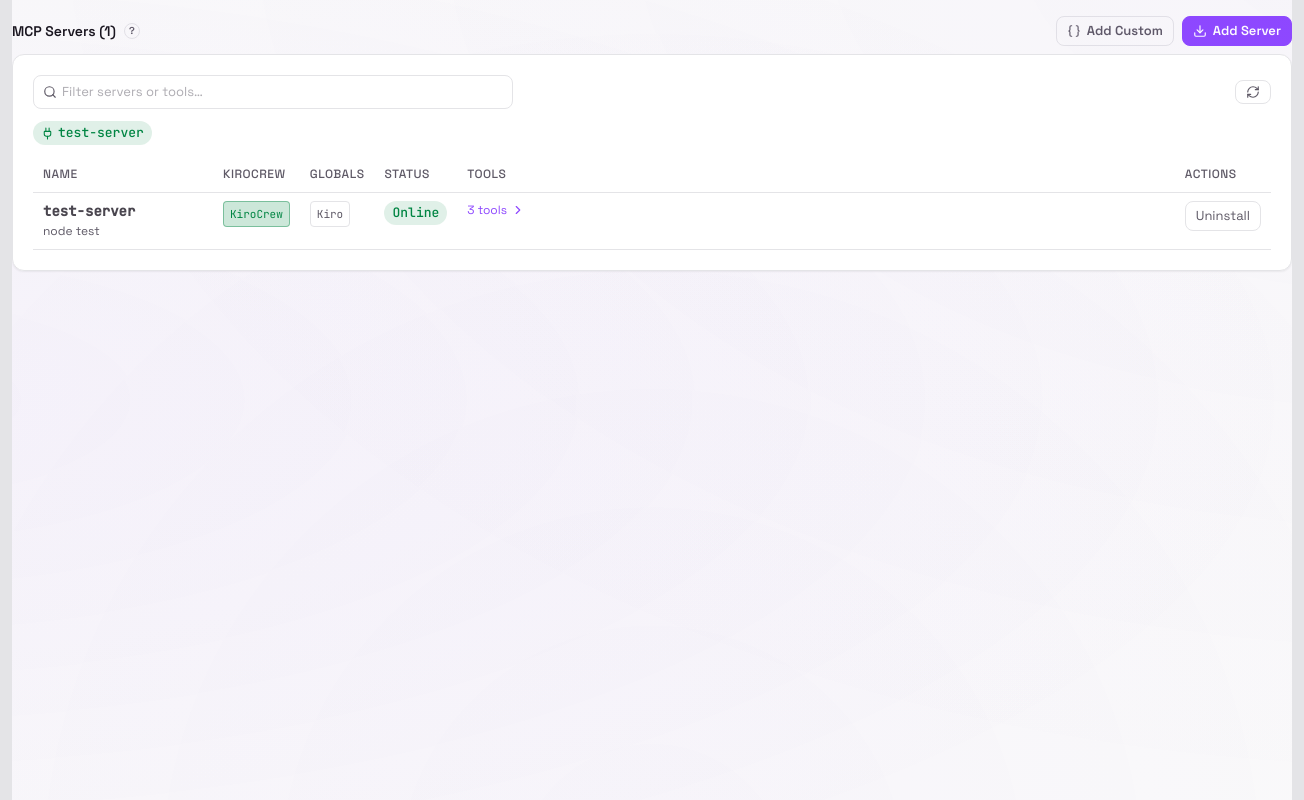
Test: McpTab Integration Tests › displays tools for each server
The image size is (1304, 800).
Click the button "3 tools".
click(496, 210)  # box [467,201,525,220]
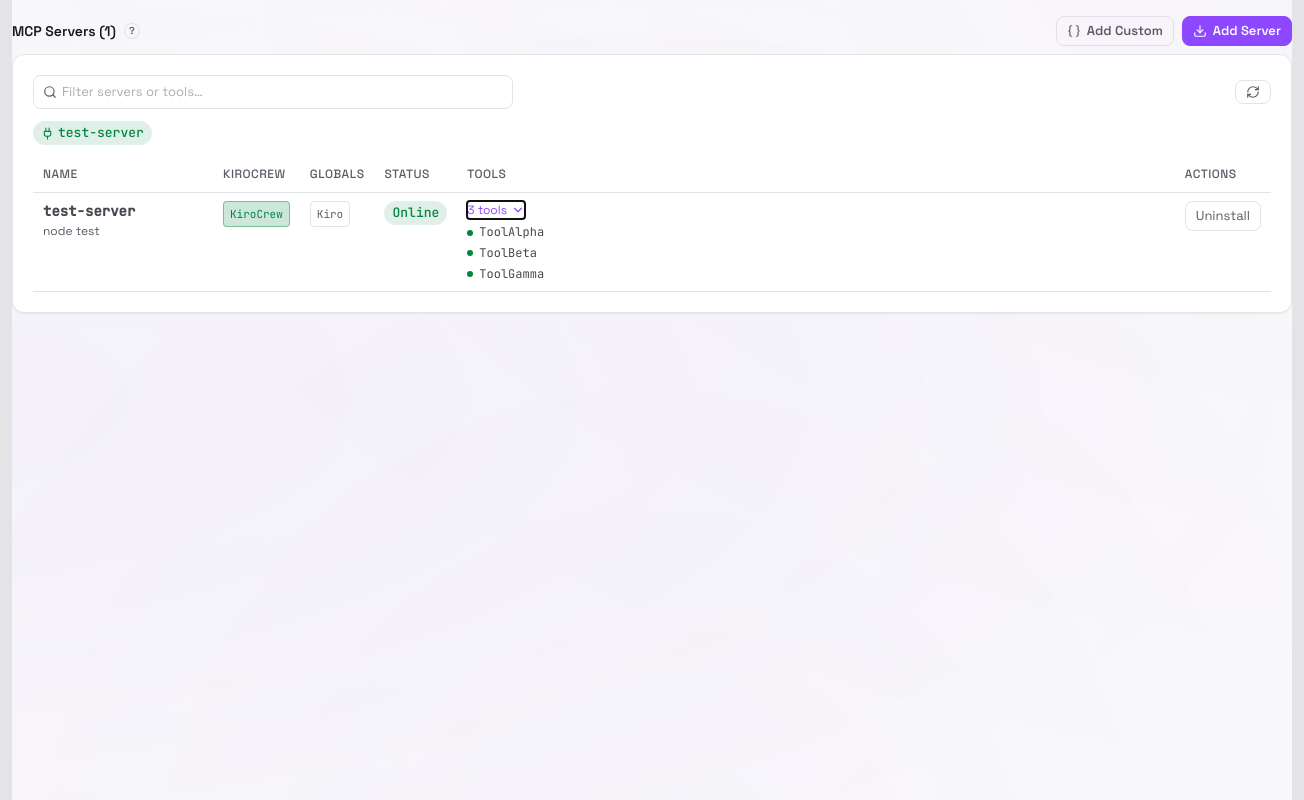
Now the button "ToolAlpha" is shown, box [467,224,544,242]
Now the button "ToolBeta" is shown, box [467,244,537,263]
Now the button "ToolGamma" is shown, box [467,265,544,283]
